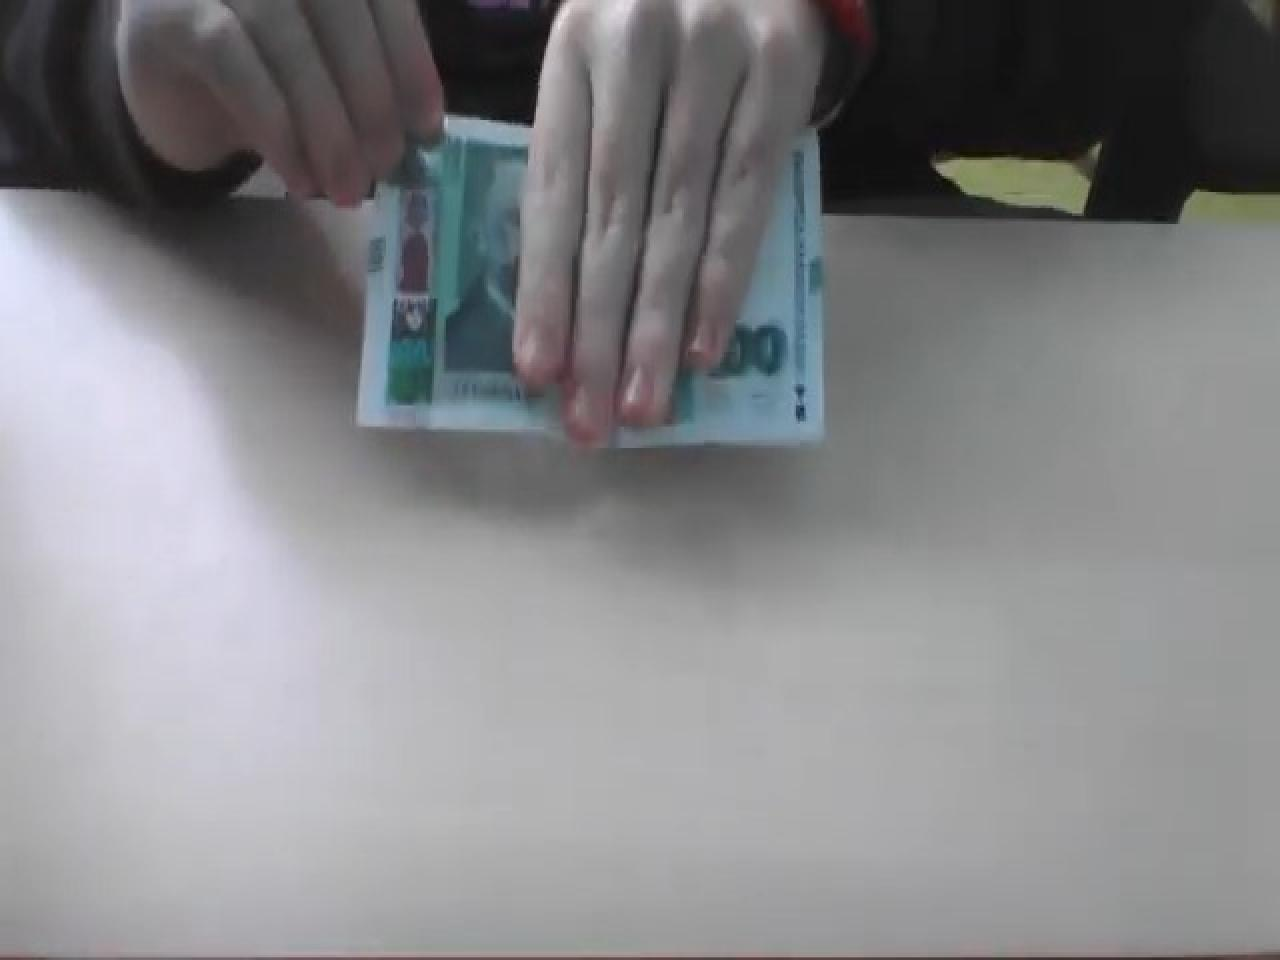100leva: (352, 107, 828, 451)
